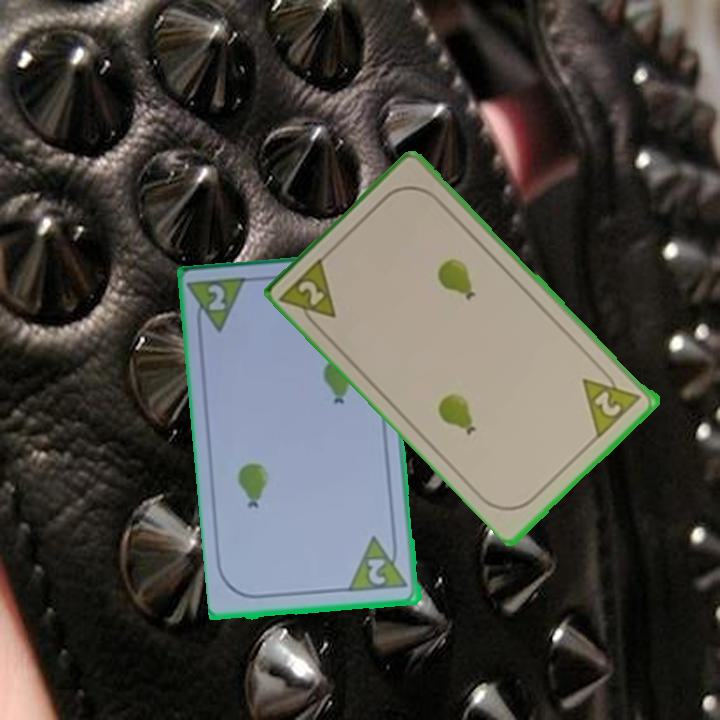2p: (278, 252, 341, 335), (579, 361, 645, 440), (347, 532, 412, 596), (204, 281, 229, 314)
